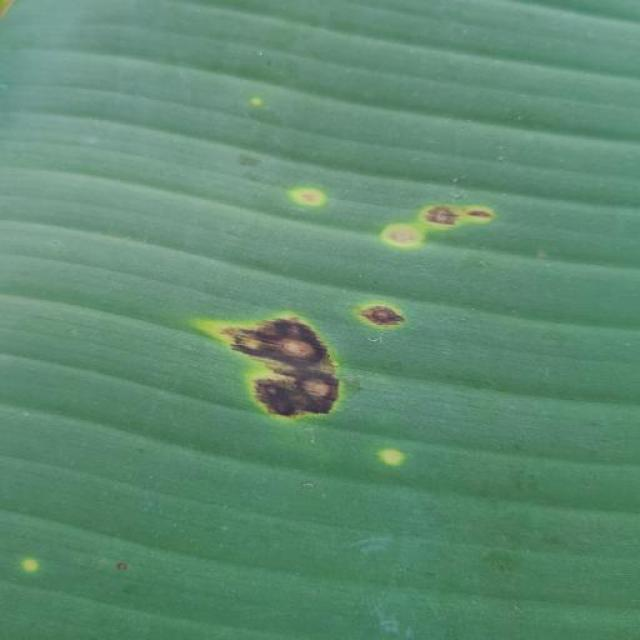Early_rust: (180, 153, 507, 511)
